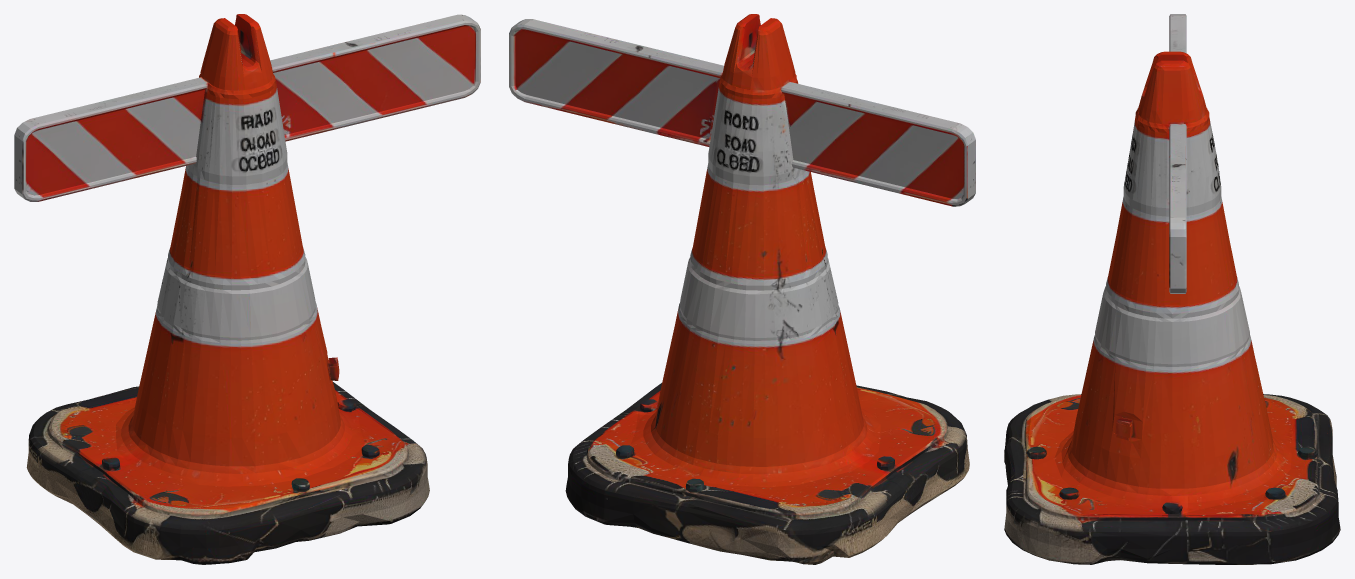
Rendered from barrier_B.glb.
The picture shows the model from 3 angles, left to right: view 1: azimuth 30°, elevation 25°; view 2: azimuth 150°, elevation 25°; view 3: azimuth 270°, elevation 25°; orthographic projection. The views are drawn at different scales.
Visible parts, largest first — view 1: barrier_A; view 2: barrier_A; view 3: barrier_A.
Part boxes in pixels (x1=…): barrier_A: x1=14, y1=14, x2=480, y2=564; barrier_A: x1=509, y1=14, x2=975, y2=564; barrier_A: x1=1004, y1=14, x2=1340, y2=564.
Bounding box in the file's own units: 1.38 × 1.42 × 0.9046.
1 material, 1 textured.
